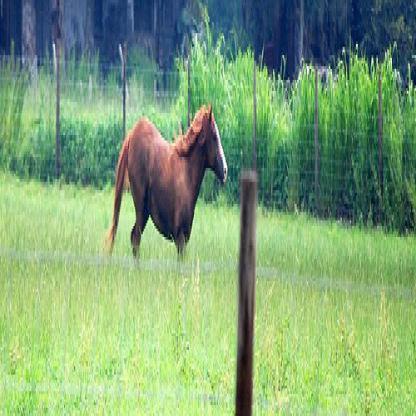horse: (107, 96, 228, 317)
